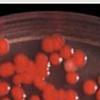red: (21, 61, 51, 80), (42, 86, 79, 100), (69, 47, 89, 68), (32, 76, 57, 92), (12, 52, 35, 68), (81, 78, 99, 97), (48, 31, 65, 50), (39, 35, 56, 53), (10, 83, 28, 100), (11, 73, 34, 86), (0, 60, 15, 79), (62, 58, 79, 74), (63, 70, 80, 85), (49, 51, 66, 66), (59, 44, 74, 60), (34, 50, 50, 65), (0, 36, 10, 56), (0, 80, 11, 98), (13, 63, 26, 75), (92, 85, 100, 100), (28, 93, 41, 100), (94, 73, 100, 87), (0, 95, 12, 100)
